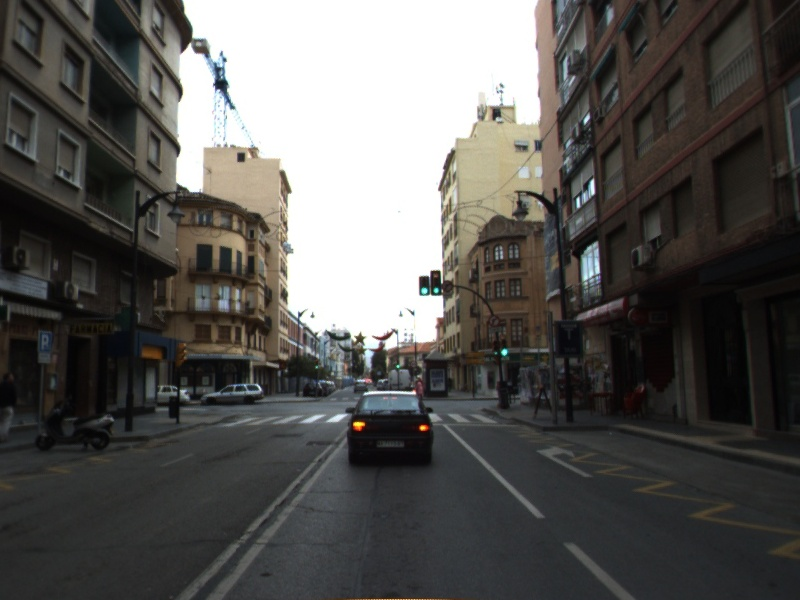RIGHT: (534, 443, 596, 479)
